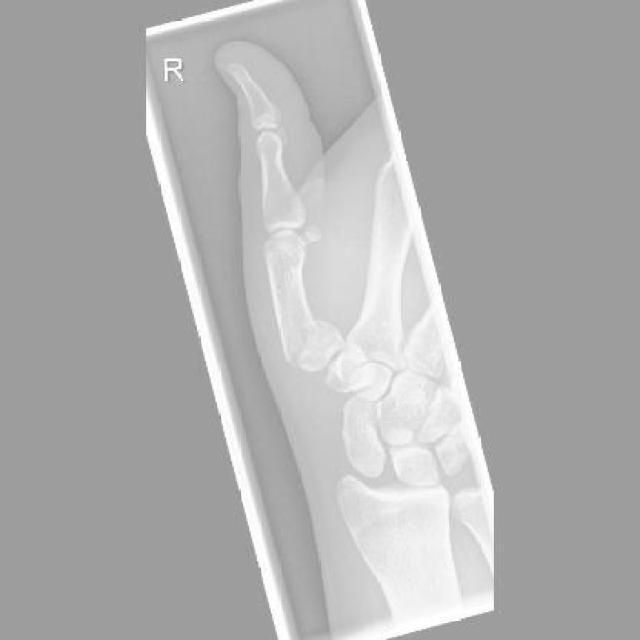Fracture: (280, 315, 345, 371)
